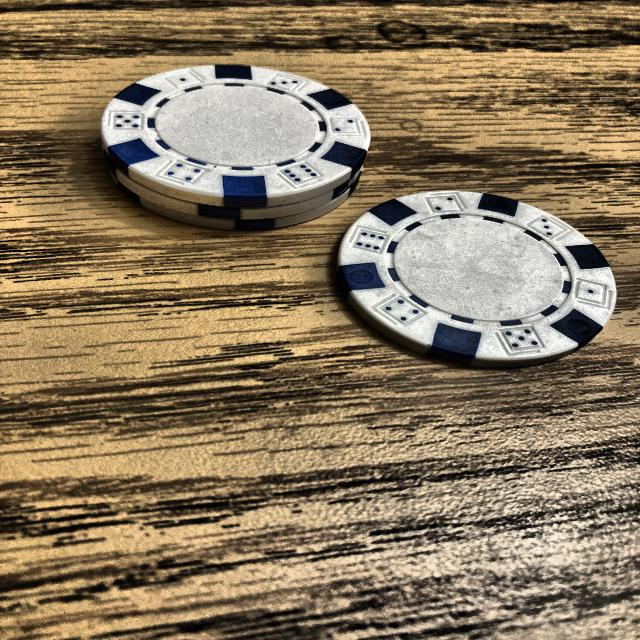Chip: (70, 52, 412, 237), (322, 175, 627, 378)
